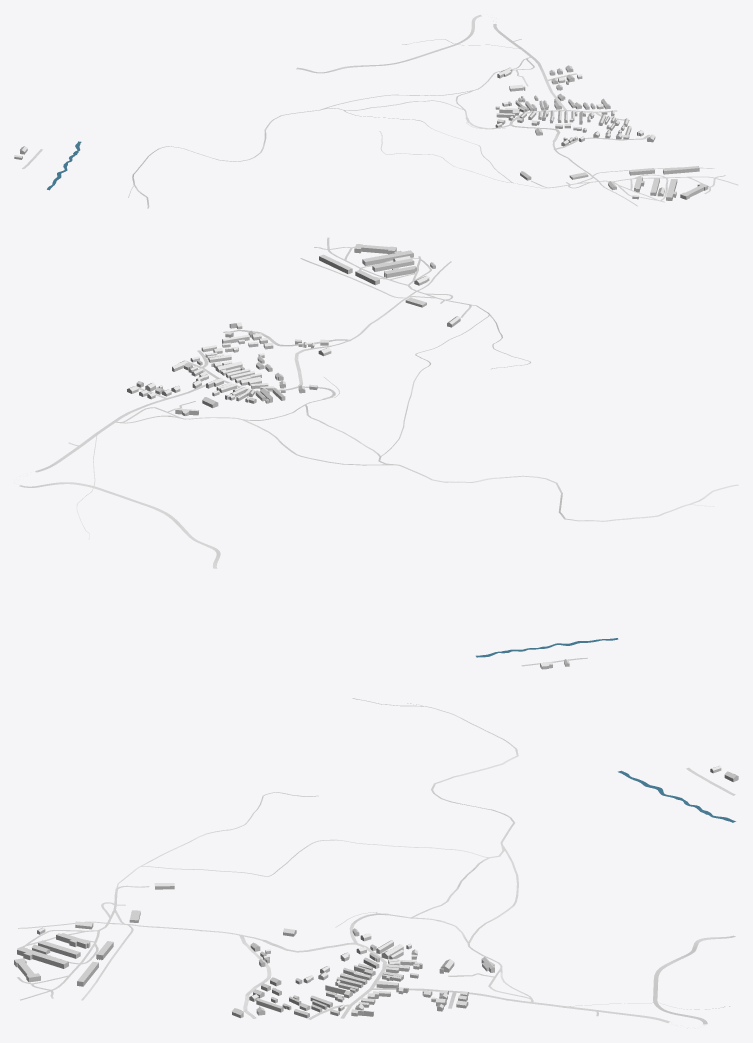
Rendered from objekty.glb.
The picture shows the model from 3 angles, top to bottom: view 1: azimuth 30°, elevation 25°; view 2: azimuth 150°, elevation 25°; view 3: azimuth 270°, elevation 25°; orthographic projection. The views are drawn at different scales.
Visible parts, largest first — view 1: Budovy_07_07, Cesty_07_07, Okna_Dvere_07_07; view 2: Budovy_07_07, Cesty_07_07, Okna_Dvere_07_07; view 3: Budovy_07_07, Cesty_07_07, Okna_Dvere_07_07.
Part boxes in pixels (bbox=[...]): Budovy_07_07: bbox=[14, 65, 708, 200]; Cesty_07_07: bbox=[22, 14, 738, 208]; Okna_Dvere_07_07: bbox=[14, 69, 707, 199]; Budovy_07_07: bbox=[127, 244, 569, 669]; Cesty_07_07: bbox=[19, 237, 738, 666]; Okna_Dvere_07_07: bbox=[127, 248, 568, 667]; Budovy_07_07: bbox=[14, 765, 738, 1018]; Cesty_07_07: bbox=[17, 698, 735, 1024]; Okna_Dvere_07_07: bbox=[14, 769, 737, 1017].
Bounding box in the file's own units: 1022 × 185 × 1013.
